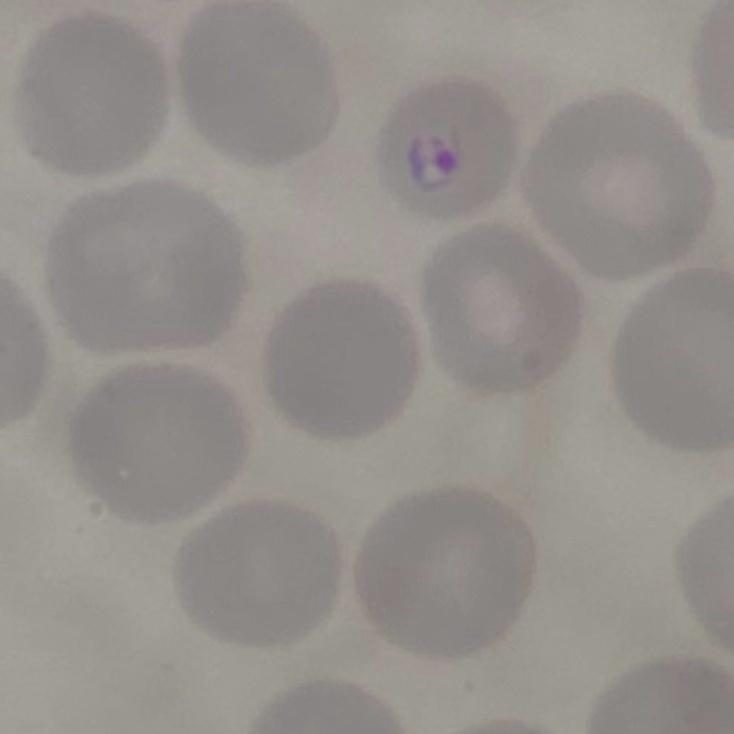Infected: (376, 77, 518, 224)
Uninfected: (526, 87, 710, 281), (46, 181, 253, 345), (354, 485, 535, 661), (64, 365, 250, 513), (424, 229, 581, 397), (180, 5, 342, 165), (258, 281, 421, 440), (174, 497, 341, 644), (16, 15, 167, 174), (612, 275, 734, 452)
